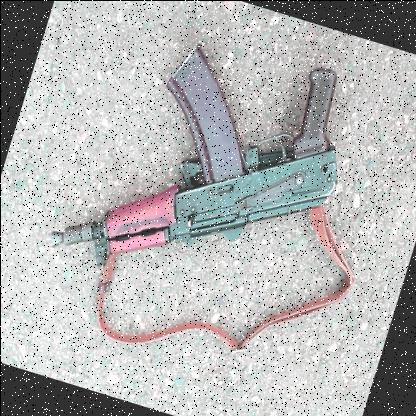rifle: (35, 0, 381, 365)
